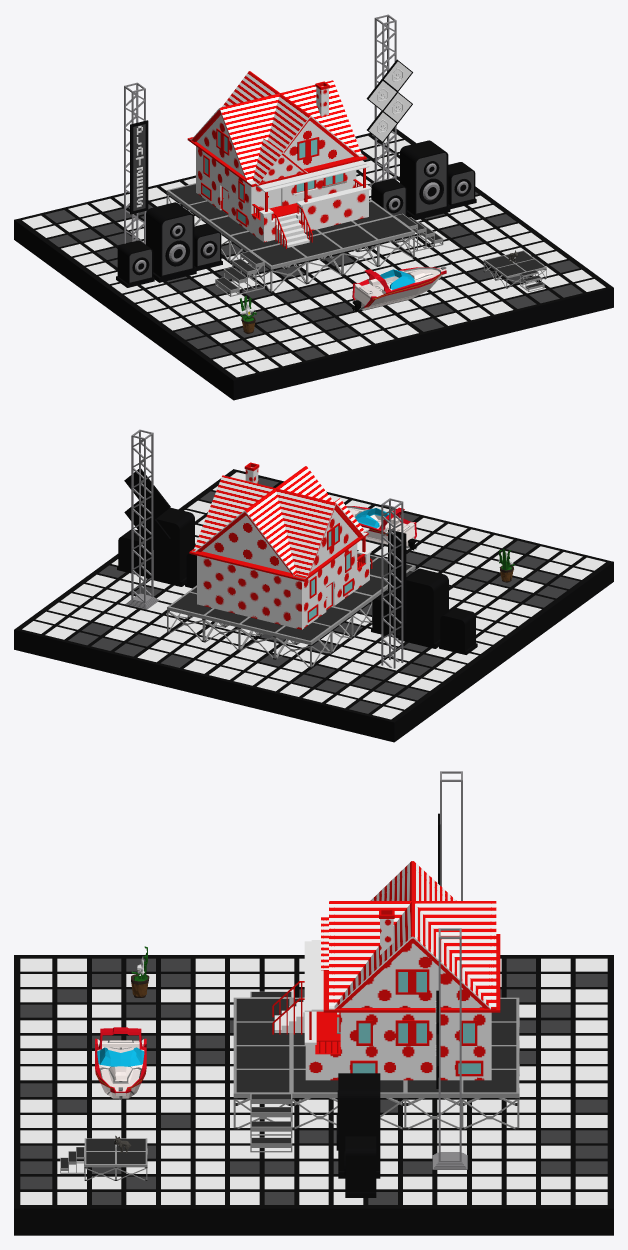
3 views of the same model, one above another, from view 1: azimuth 30°, elevation 25°; view 2: azimuth 150°, elevation 25°; view 3: azimuth 270°, elevation 25° (orthographic). The views are drawn at different scales.
Parts seen in each view (by area): view 1: Cube.008, Cube.196, VEHICLES_BOAT; view 2: Cube.008, Cube.196, VEHICLES_BOAT; view 3: Cube.008, Cube.196, VEHICLES_BOAT.
Part boxes in pixels (x1,y1,x2,y2): Cube.008: (14, 14, 613, 400); Cube.196: (187, 71, 371, 248); VEHICLES_BOAT: (352, 266, 446, 311); Cube.008: (14, 429, 613, 742); Cube.196: (189, 462, 372, 629); VEHICLES_BOAT: (346, 506, 416, 550); Cube.008: (14, 771, 613, 1235); Cube.196: (272, 861, 500, 1080); VEHICLES_BOAT: (95, 1027, 146, 1099).
Bounding box in the file's own units: 4000 × 1950 × 4000.
37 materials, 2 textured.
